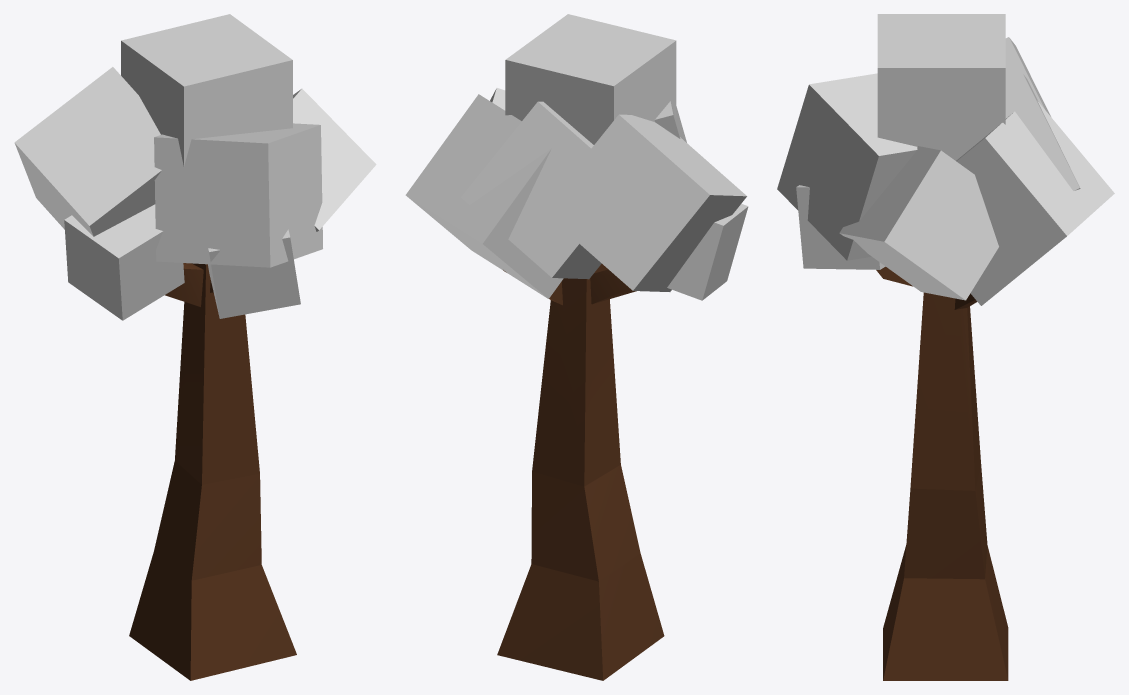
Rendered from Snow_Tree001.fbx.
3 renders of one model, left to right at view 1: azimuth 30°, elevation 25°; view 2: azimuth 150°, elevation 25°; view 3: azimuth 270°, elevation 25°, orthographic. The views are drawn at different scales.
Visible parts, largest first — view 1: Box023; view 2: Box023; view 3: Box023.
Boxes of the visible parts, x1,y1,x2,y2 form: Box023: [14, 14, 376, 680]; Box023: [405, 14, 748, 680]; Box023: [777, 14, 1114, 680].
Bounding box in the file's own units: 161 × 310 × 156.
